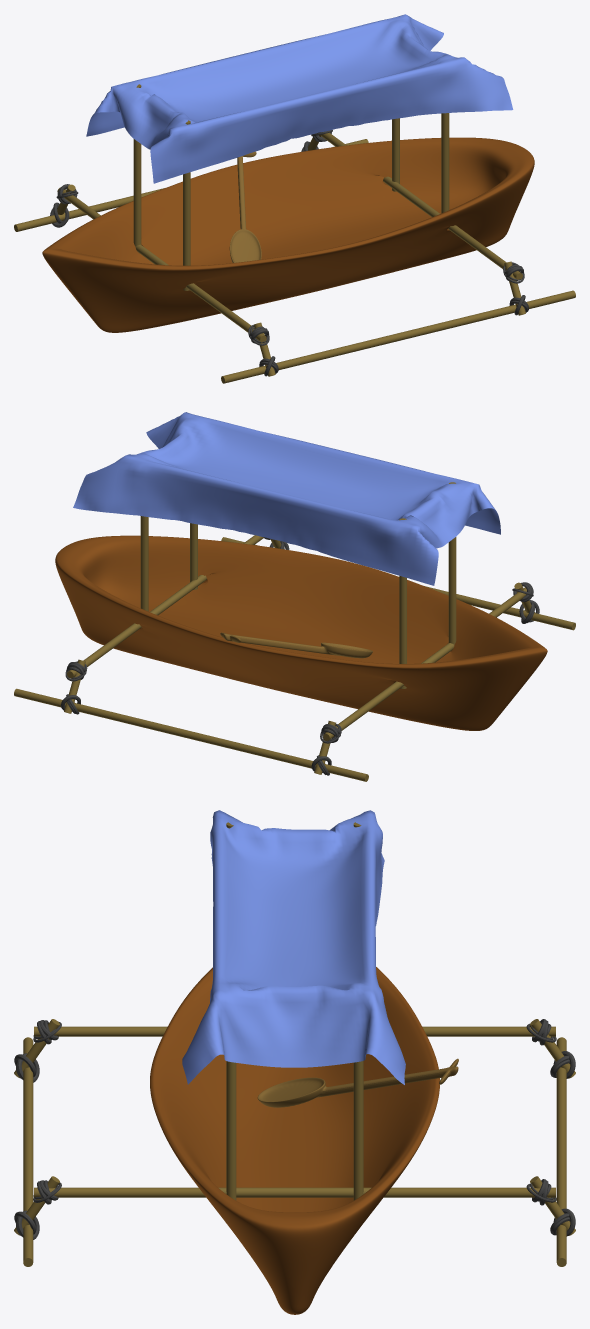
Rendered from perahu.fbx.
3 views of the same model, one above another, from view 1: azimuth 30°, elevation 25°; view 2: azimuth 150°, elevation 25°; view 3: azimuth 270°, elevation 25° (orthographic). The views are drawn at different scales.
Visible parts, largest first — view 1: Cube.001, Plane, Cylinder.002, Cylinder.009, Cylinder.008, Circle, Cylinder.001, Cylinder.006; view 2: Cube.001, Plane, Cylinder.002, Cylinder.009, Circle, Cylinder.008, Cylinder.006, Cylinder.001; view 3: Cube.001, Plane, Cylinder.001, Cylinder.002, Cylinder.008, Circle, Cylinder.006, Cylinder.003, Cylinder.004.
Boxes of the visible parts, <box> form: Cube.001: <box>42,137,534,332</box>; Plane: <box>86,14,513,183</box>; Cylinder.002: <box>14,139,575,383</box>; Cylinder.009: <box>133,84,190,290</box>; Cylinder.008: <box>392,113,449,213</box>; Circle: <box>229,151,261,262</box>; Cylinder.001: <box>321,132,522,279</box>; Cylinder.006: <box>57,187,266,342</box>; Cube.001: <box>55,535,547,730</box>; Plane: <box>73,412,500,585</box>; Cylinder.002: <box>14,537,575,781</box>; Cylinder.009: <box>399,482,456,688</box>; Circle: <box>220,632,372,658</box>; Cylinder.008: <box>140,516,197,611</box>; Cylinder.006: <box>323,587,526,740</box>; Cylinder.001: <box>67,535,264,678</box>; Cube.001: <box>150,967,439,1314</box>; Plane: <box>182,810,405,1084</box>; Cylinder.001: <box>34,1187,555,1197</box>; Cylinder.002: <box>23,1037,566,1266</box>; Cylinder.008: <box>226,1061,363,1200</box>; Circle: <box>257,1058,458,1107</box>; Cylinder.006: <box>34,1026,555,1036</box>; Cylinder.003: <box>14,1019,575,1078</box>; Cylinder.004: <box>14,1176,575,1235</box>.
Bounding box in the file's own units: 3312 × 1438 × 2576.
